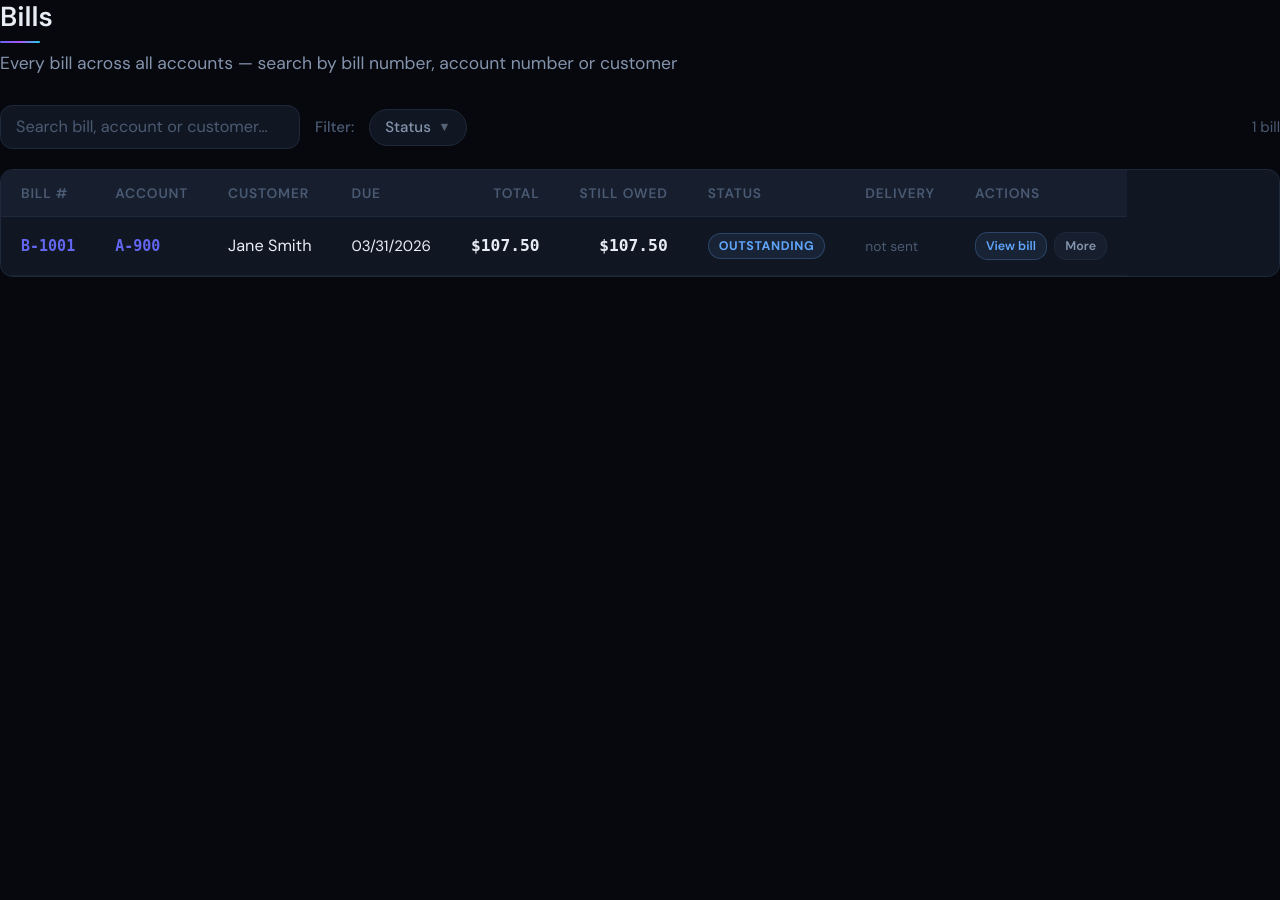
Scenario: Bills page — bill document actions › opens the payment dialog from the menu
The width and height of the screenshot is (1280, 900).
Step 1. Click the button with aria-label "More actions" → (1081, 246), box x1=1054 y1=232 x2=1107 y2=260
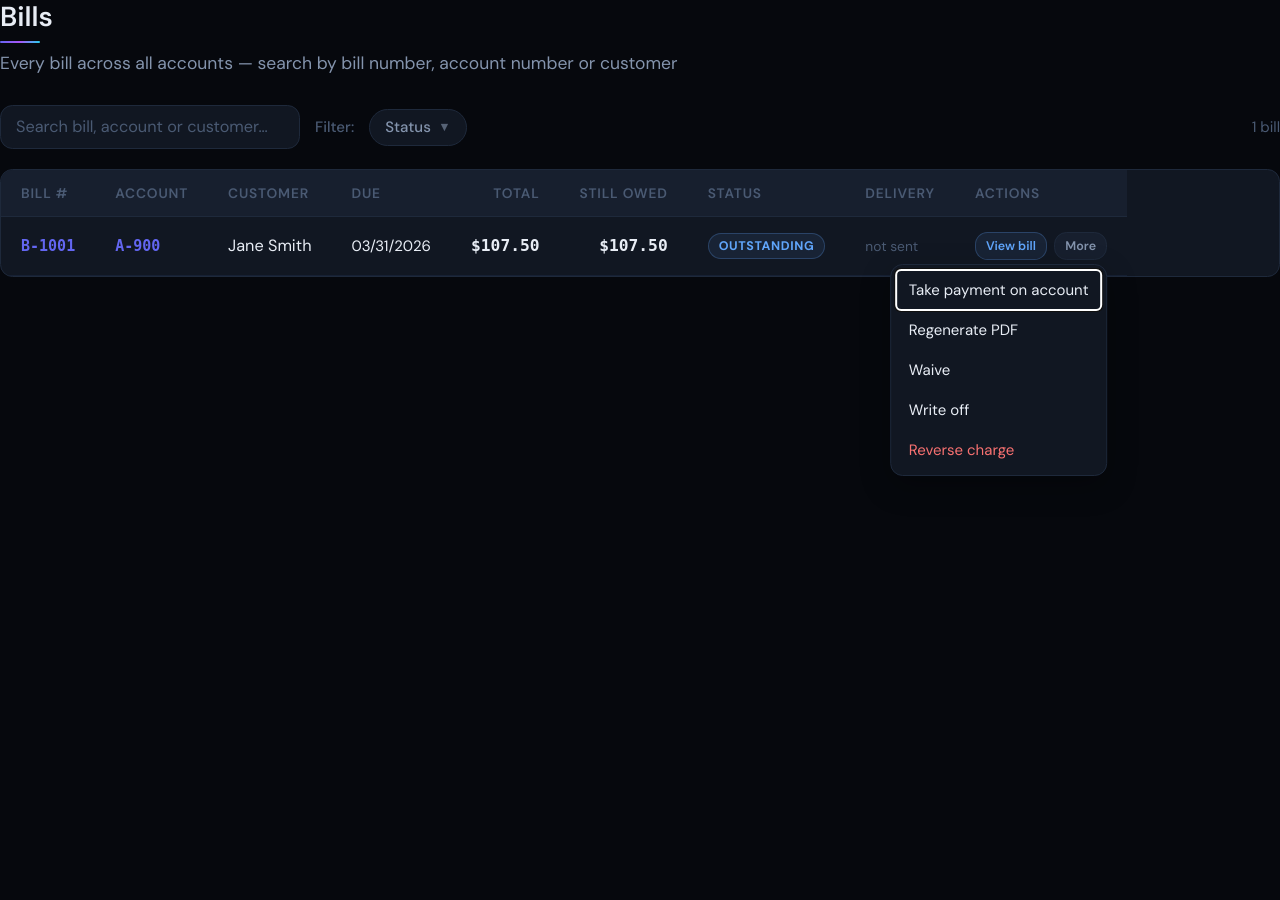
Step 2. Click the menu item "Take payment on account" → (999, 290), box x1=896 y1=270 x2=1101 y2=310
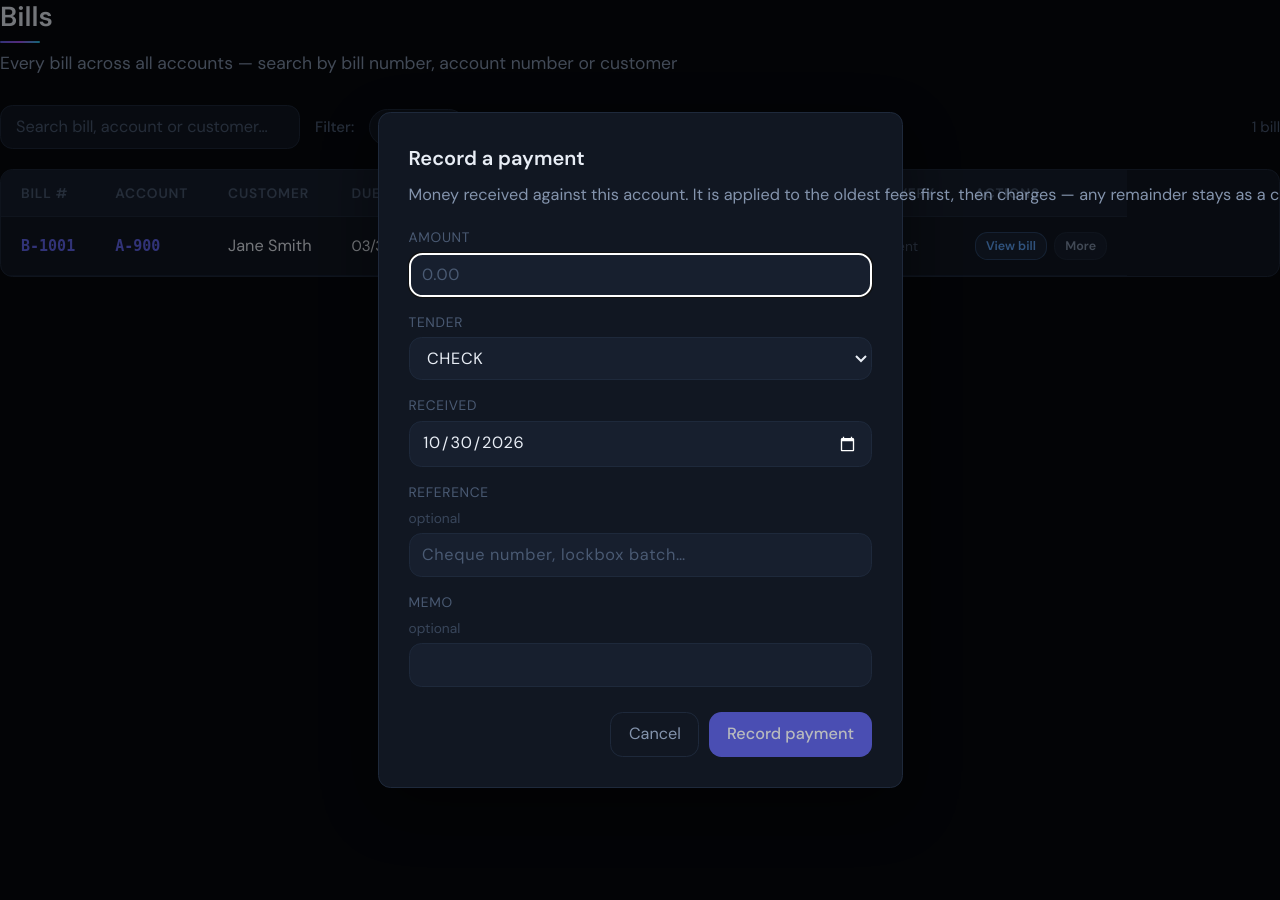
Expected: the dialog is shown, x1=378 y1=112 x2=902 y2=788
